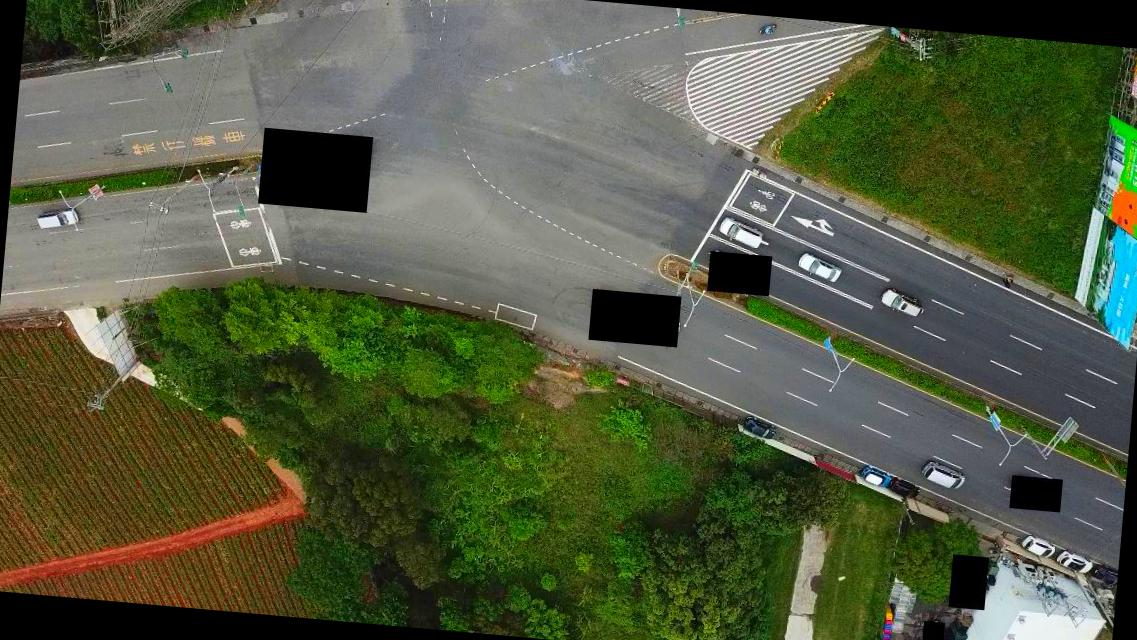vehicle: (716, 217, 764, 250), (797, 252, 842, 284), (879, 287, 923, 319), (920, 459, 964, 490), (35, 206, 79, 232), (1057, 550, 1093, 576), (741, 417, 778, 442), (1020, 534, 1055, 559), (888, 478, 922, 502), (860, 466, 892, 488), (1090, 562, 1117, 584)
